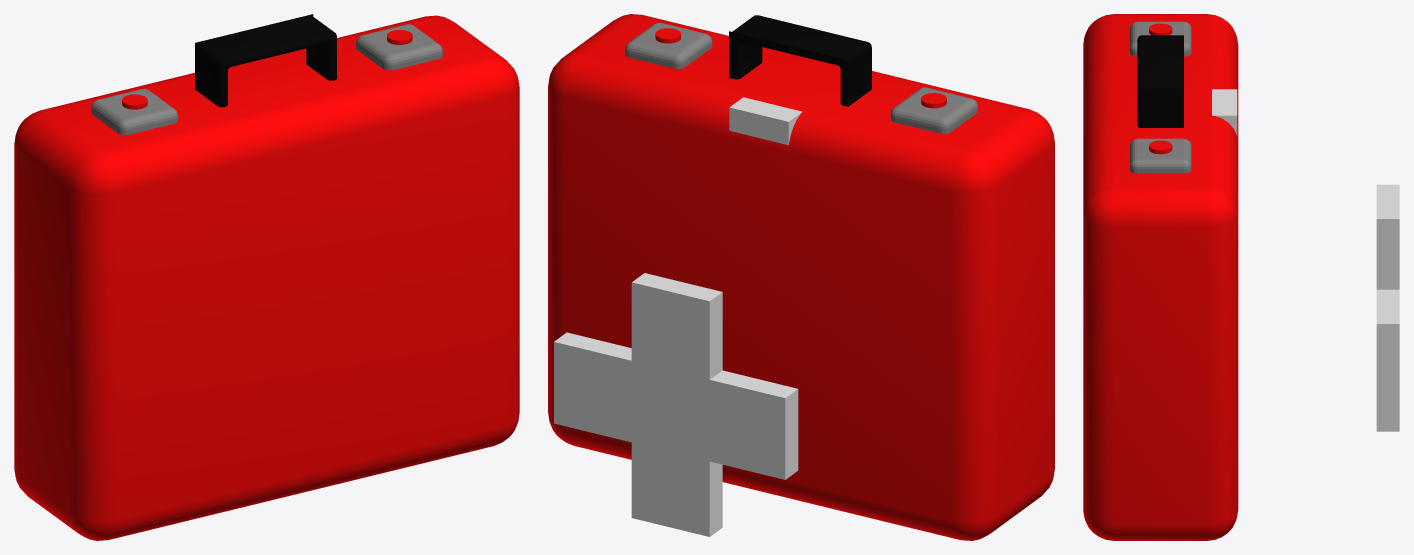
The model's file is medkit.glb.
3 renders of one model, left to right at view 1: azimuth 30°, elevation 25°; view 2: azimuth 150°, elevation 25°; view 3: azimuth 270°, elevation 25°, orthographic. The views are drawn at different scales.
Parts seen in each view (by area): view 1: SM_Medkit_Alt, SM_Medkit_Kapak, SM_Medkit_Tutamac, mandal.001, mandal.002; view 2: SM_Medkit_Kapak, SM_Medkit_Arti, SM_Medkit_Alt, SM_Medkit_Tutamac, mandal.002, mandal.001, SM_Medkit_Mandal_Ust; view 3: SM_Medkit_Alt, SM_Medkit_Kapak, SM_Medkit_Arti, SM_Medkit_Tutamac, mandal.002, mandal.001, SM_Medkit_Mandal_Ust.
Part boxes in pixels (<box>): SM_Medkit_Alt: <box>44,36,519,540</box>; SM_Medkit_Kapak: <box>14,15,479,514</box>; SM_Medkit_Tutamac: <box>195,14,336,107</box>; mandal.001: <box>91,88,178,134</box>; mandal.002: <box>356,24,442,70</box>; SM_Medkit_Kapak: <box>548,35,1024,540</box>; SM_Medkit_Arti: <box>554,273,798,536</box>; SM_Medkit_Alt: <box>589,14,1054,514</box>; SM_Medkit_Tutamac: <box>729,15,871,106</box>; mandal.002: <box>625,22,712,68</box>; mandal.001: <box>890,87,977,133</box>; SM_Medkit_Mandal_Ust: <box>729,97,802,145</box>; SM_Medkit_Alt: <box>1083,14,1160,540</box>; SM_Medkit_Kapak: <box>1160,14,1238,540</box>; SM_Medkit_Arti: <box>1376,184,1399,431</box>; SM_Medkit_Tutamac: <box>1137,35,1183,127</box>; mandal.002: <box>1129,138,1191,173</box>; mandal.001: <box>1129,21,1191,56</box>; SM_Medkit_Mandal_Ust: <box>1212,89,1237,135</box>.
Size of the model in its own units: 0.45 by 0.4264 by 0.3064.
